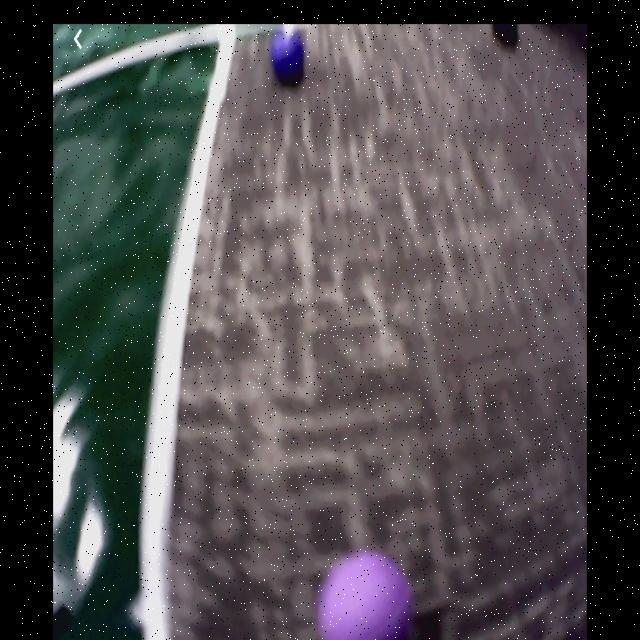ball: (318, 556, 407, 640), (272, 32, 305, 81)
